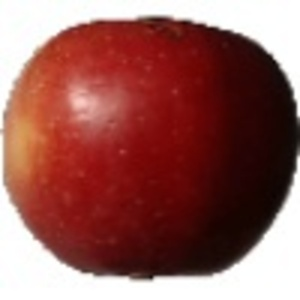maçã braeburn: (3, 14, 298, 282)
